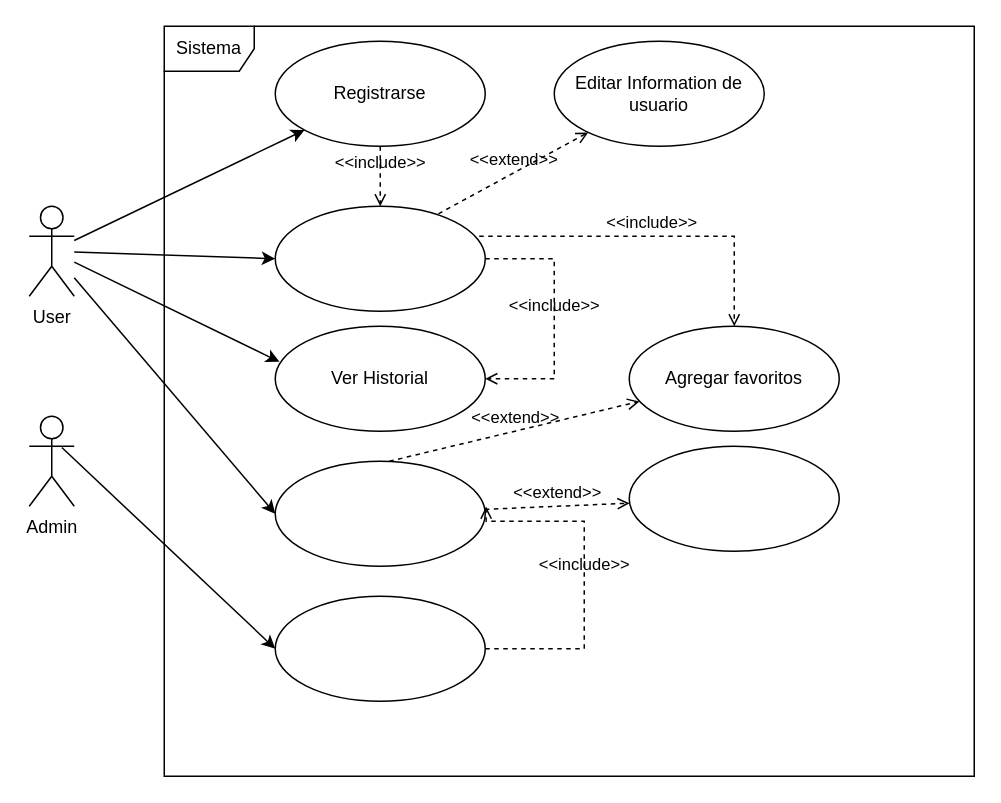
Some shapes in this 1001 by 803 pixel diagram are drawn without their labels. The box of each missing label's shape, as (x1, y1, x2, y2) in pixels:
Agregar Contenidos: (274, 595, 485, 701)
Consultar Contenido: (274, 460, 485, 566)
Iniciar Session: (274, 205, 485, 311)
Ver reseñas: (628, 445, 839, 551)
